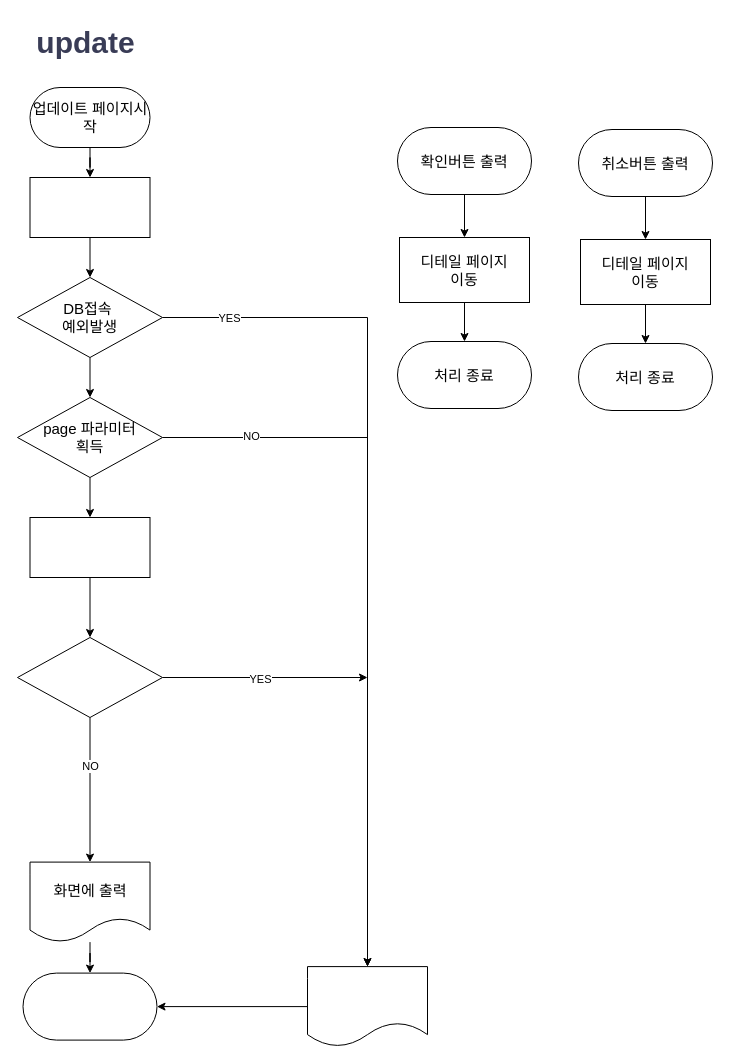
Image size: 730x1064. Some labels were removed from this diagram. The box of each missing label's shape, as (x1, y1, x2, y2) in pixels:
DB접속: (29, 176, 150, 238)
수정처리 예외발생: (16, 636, 162, 718)
업데이트 페이지 종료: (22, 972, 157, 1040)
예외메세지 출력: (306, 966, 428, 1047)
이미지 정보 획득: (29, 516, 150, 578)
